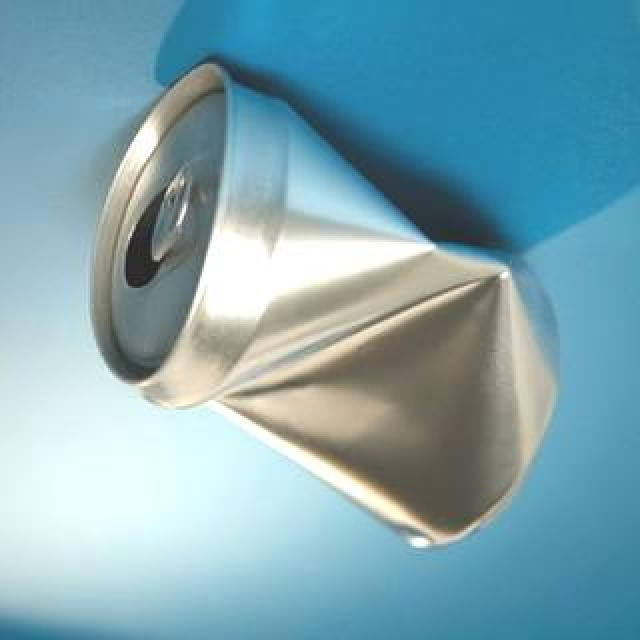Can: (87, 52, 557, 568)
